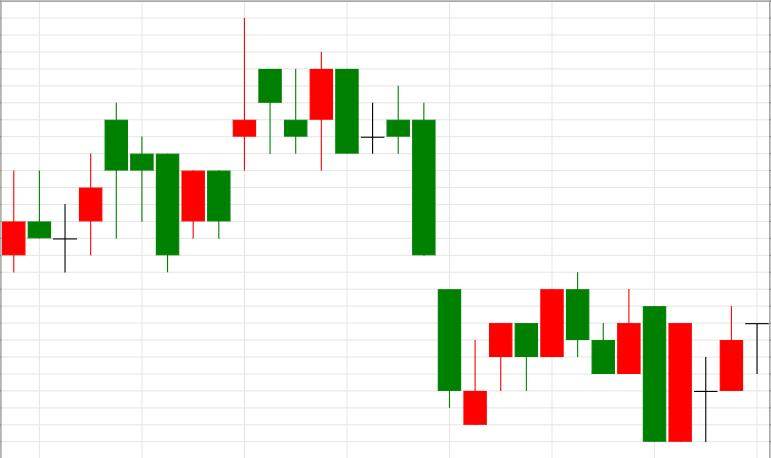hanging_man_fall: (156, 18, 281, 274)
inverse_hammer_rise: (336, 69, 487, 425)
